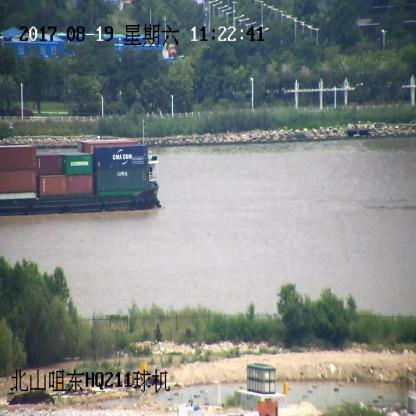Container Ship: (0, 141, 163, 214)
